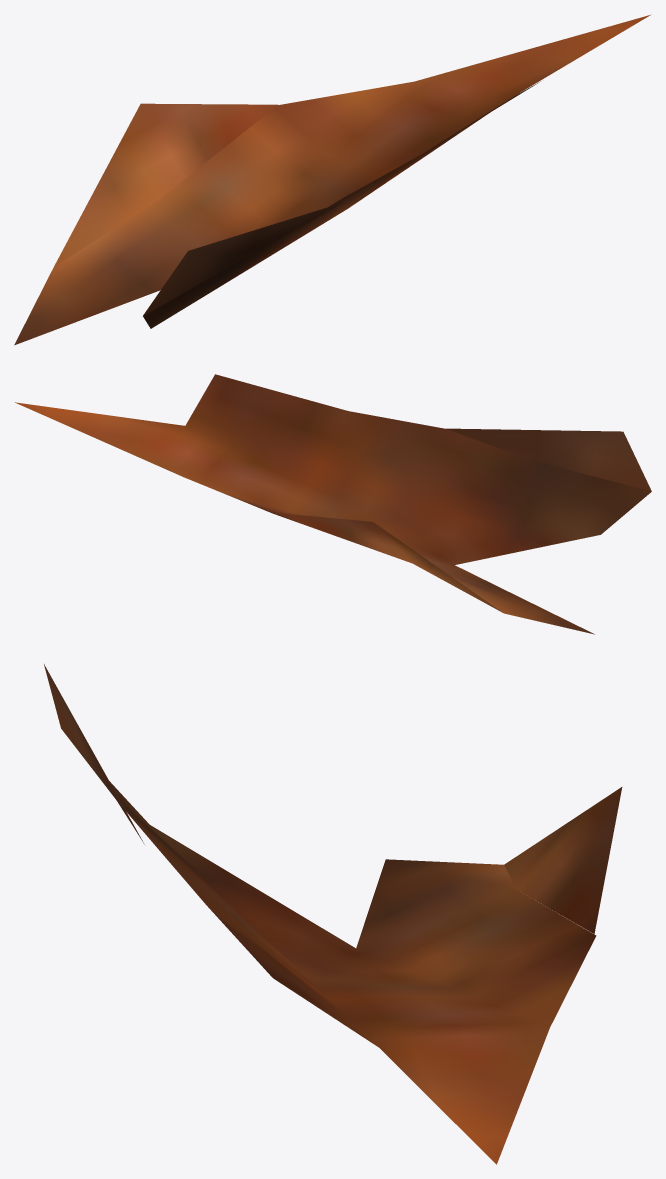
Rendered from Triceratops_HornSide.fbx.
3 views of the same model, one above another, from view 1: azimuth 30°, elevation 25°; view 2: azimuth 150°, elevation 25°; view 3: azimuth 270°, elevation 25° (orthographic). The views are drawn at different scales.
Visible parts, largest first — view 1: Triceratops_HornSide; view 2: Triceratops_HornSide; view 3: Triceratops_HornSide.
Part boxes in pixels (x1=…): Triceratops_HornSide: x1=14, y1=14, x2=651, y2=345; Triceratops_HornSide: x1=15, y1=374, x2=651, y2=634; Triceratops_HornSide: x1=44, y1=664, x2=622, y2=1164.
Bounding box in the file's own units: 0.0357 × 0.00862 × 0.0161.
1 material, 1 textured.
